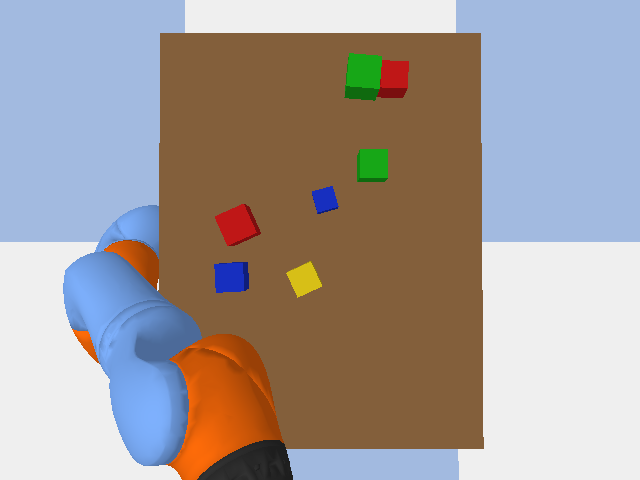blue_obj: (214, 262, 248, 292), (312, 186, 338, 213)
green_obj: (344, 53, 381, 100), (357, 149, 387, 181)
red_obj: (215, 204, 260, 245), (377, 60, 408, 97)
yellow_obj: (286, 261, 321, 297)
